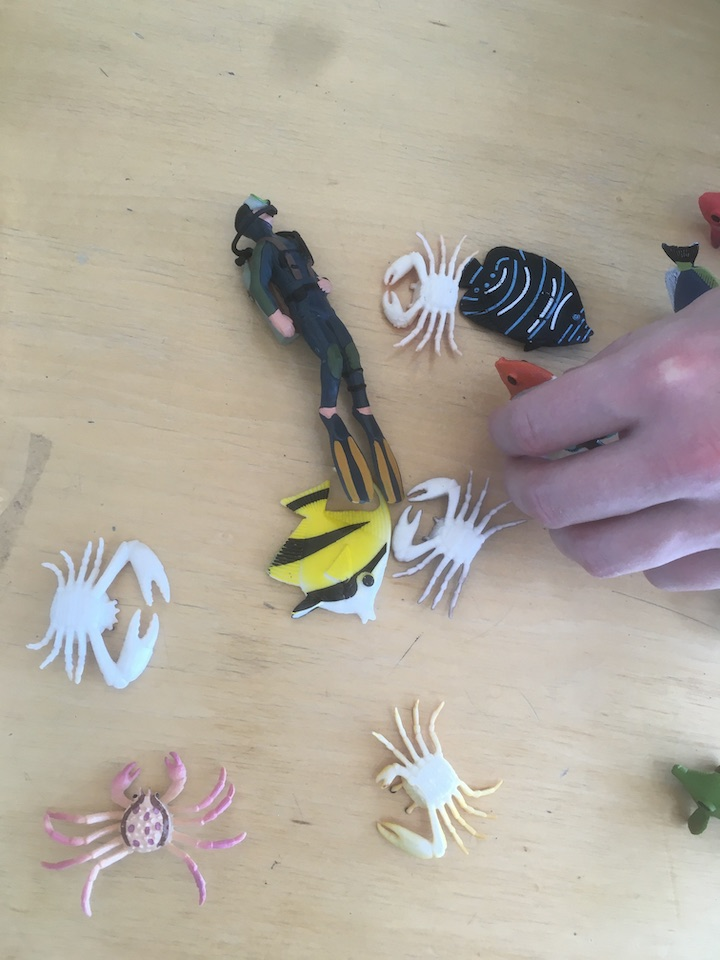danger: (37, 748, 252, 921), (365, 695, 505, 869), (23, 534, 175, 694), (387, 471, 529, 620), (266, 482, 395, 631), (377, 227, 483, 359)
diver: (229, 193, 417, 508)
fish: (455, 242, 599, 354), (654, 234, 720, 321), (486, 352, 568, 401)
